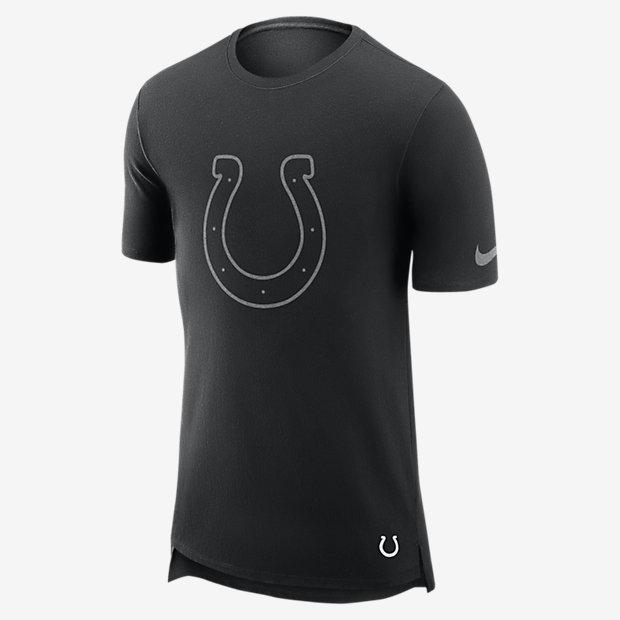teeshirt: (90, 14, 558, 620)
